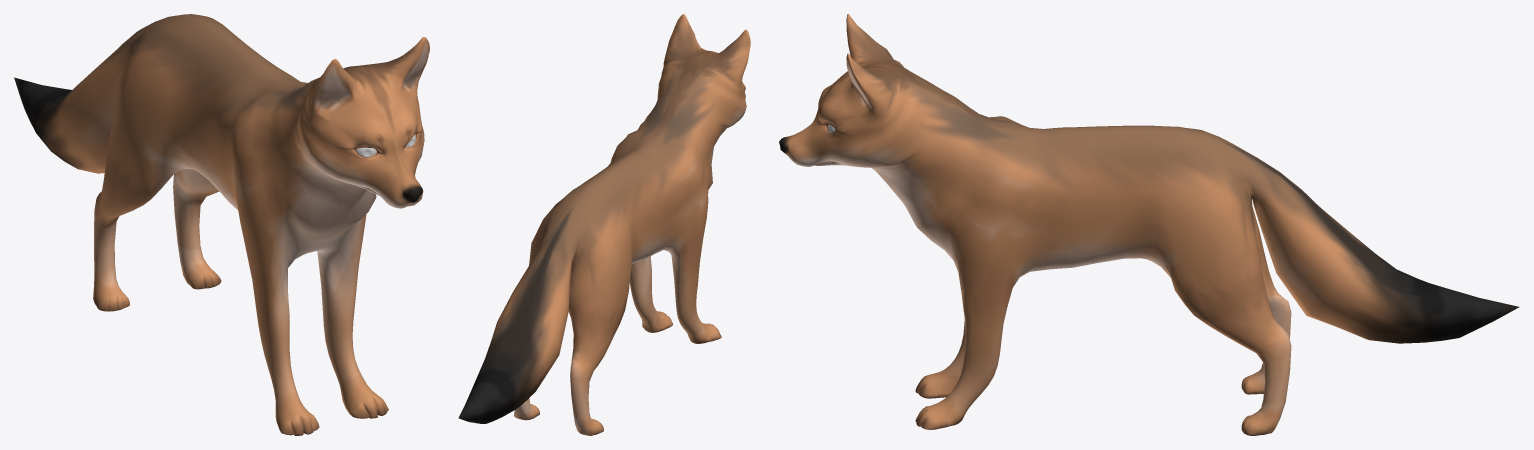
The model's file is foxAntti5.fbx.
3 renders of one model, left to right at view 1: azimuth 30°, elevation 25°; view 2: azimuth 150°, elevation 25°; view 3: azimuth 270°, elevation 25°, orthographic. The views are drawn at different scales.
Visible parts, largest first — view 1: Fox; view 2: Fox; view 3: Fox.
Part boxes in pixels (bbox=[...]): Fox: bbox=[14, 14, 429, 435]; Fox: bbox=[458, 14, 750, 435]; Fox: bbox=[779, 14, 1519, 435].
Bounding box in the file's own units: 46.53 × 147 × 263.
